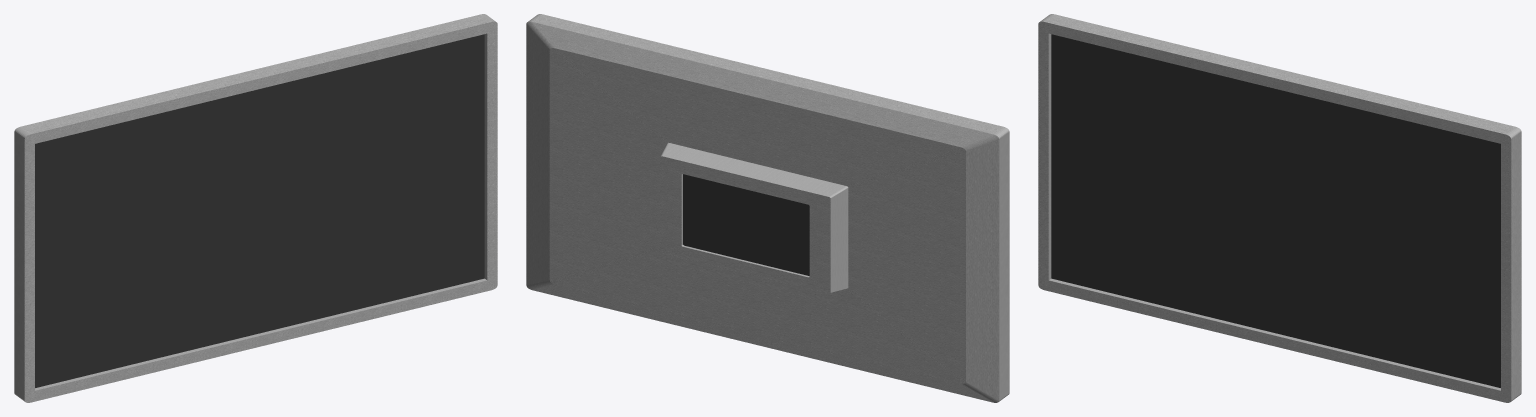
Rendered from screen-00002.glb.
The picture shows the model from 3 angles, left to right: view 1: azimuth 30°, elevation 25°; view 2: azimuth 150°, elevation 25°; view 3: azimuth 330°, elevation 25°; orthographic projection.
Parts seen in each view (by area): view 1: Cube.020; view 2: Cube.020; view 3: Cube.020.
Part boxes in pixels (x1,y1,x2,y2): Cube.020: (14, 14, 497, 402); Cube.020: (526, 14, 1009, 402); Cube.020: (1038, 14, 1521, 402).
Bounding box in the file's own units: 1.58 × 0.8589 × 0.1603.
Materials: 2 (1 with a texture image).
